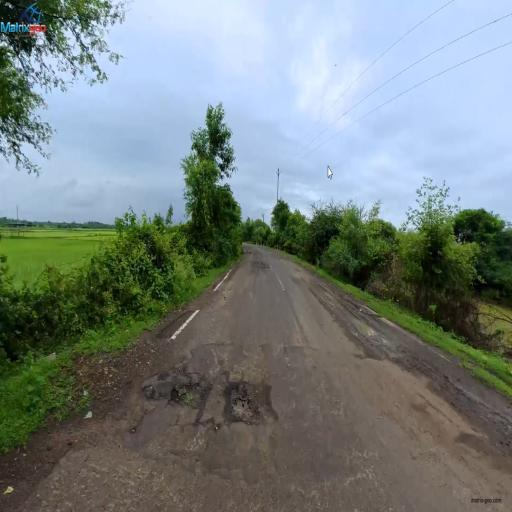pothole: (162, 361, 290, 448)
ravelling: (111, 453, 181, 495)
